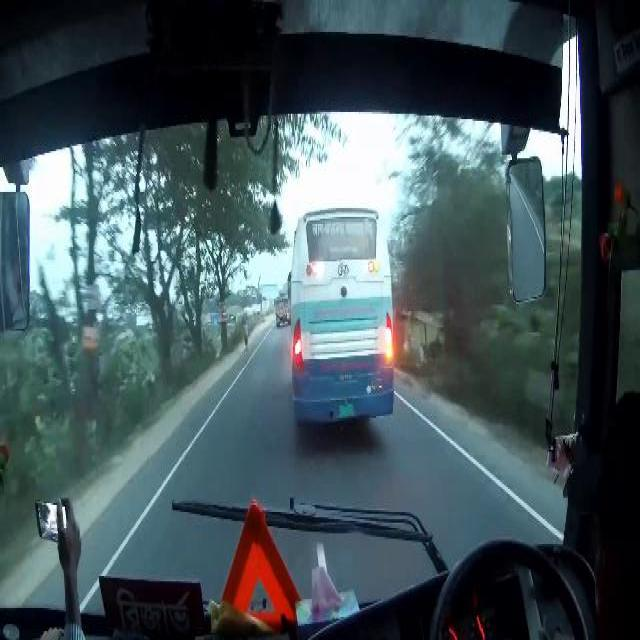bus: (291, 206, 397, 427)
truck: (274, 290, 290, 325)
